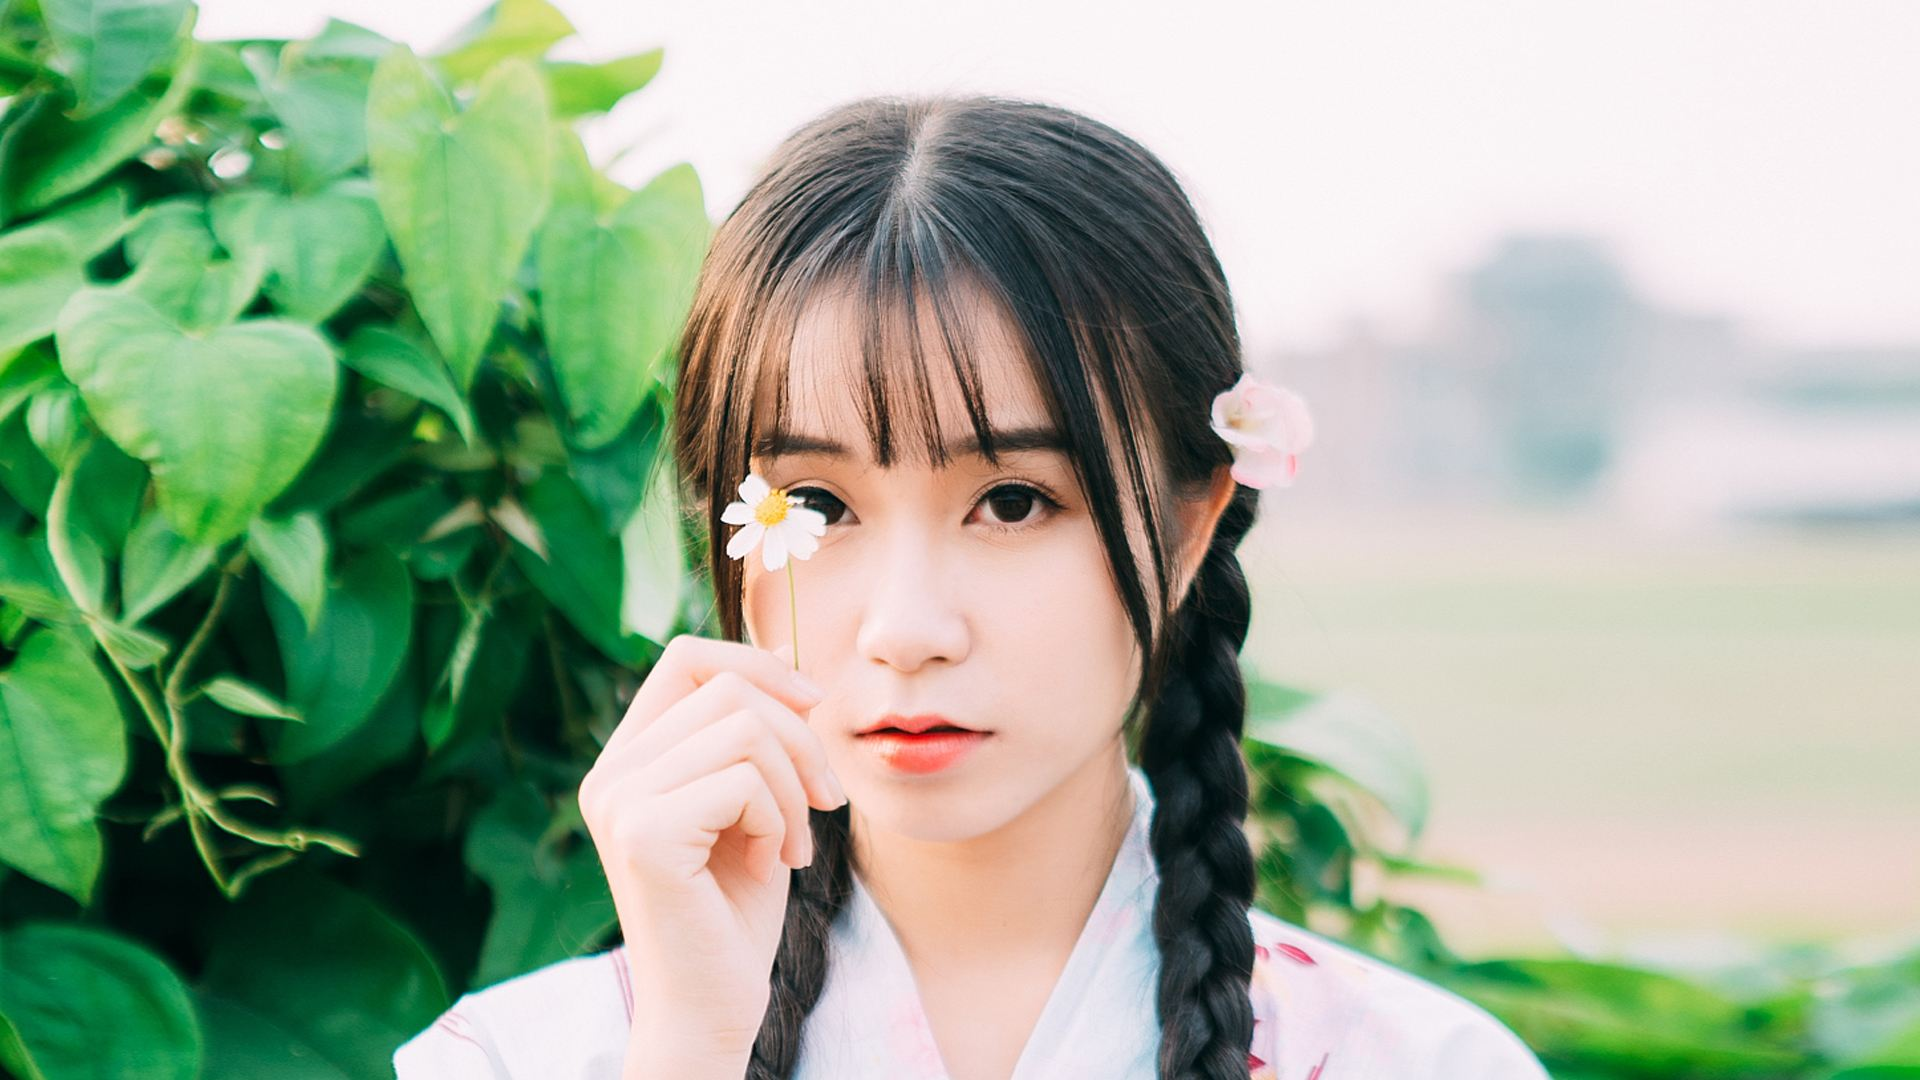person: (519, 142, 1586, 1080)
